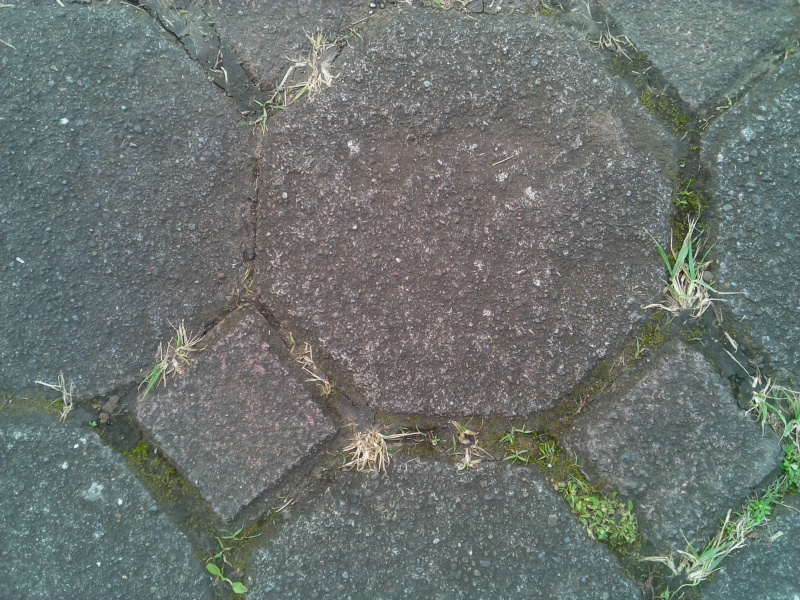Weed: (648, 226, 728, 320), (558, 477, 643, 547), (679, 512, 755, 582), (134, 323, 203, 397), (293, 31, 348, 100), (744, 448, 800, 513), (739, 368, 793, 434), (342, 416, 399, 475), (286, 331, 336, 397), (203, 549, 251, 595), (40, 369, 82, 420), (250, 84, 286, 137), (503, 420, 539, 472), (443, 412, 483, 444), (533, 437, 566, 472), (219, 521, 259, 549), (449, 447, 482, 475)
